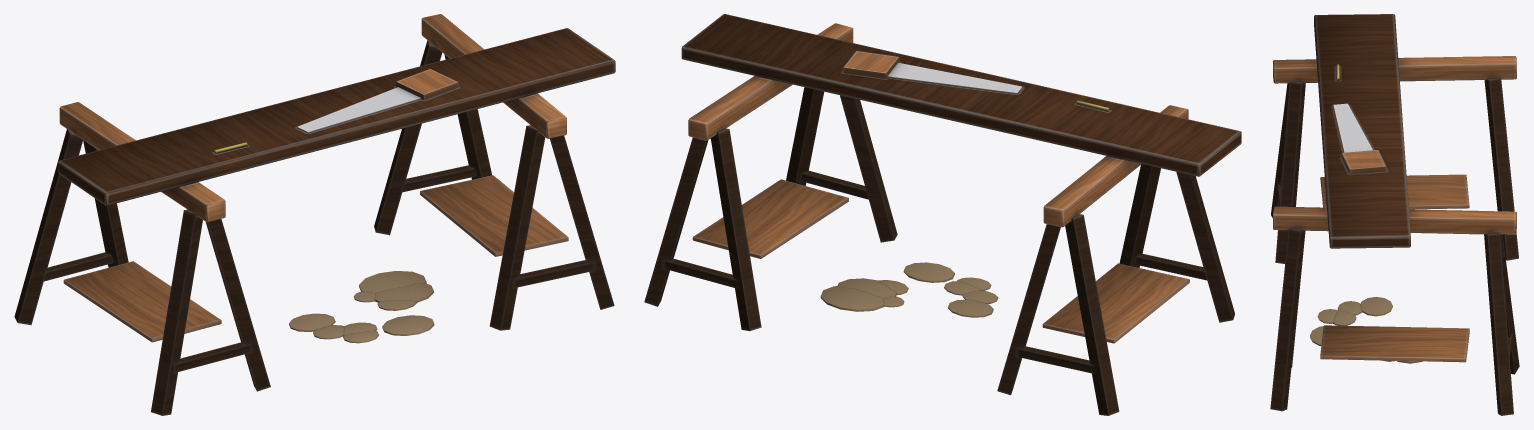
The model's file is Sawhorse.fbx.
3 renders of one model, left to right at view 1: azimuth 30°, elevation 25°; view 2: azimuth 150°, elevation 25°; view 3: azimuth 270°, elevation 25°, orthographic. The views are drawn at different scales.
Visible parts, largest first — view 1: Sawhorse; view 2: Sawhorse; view 3: Sawhorse.
Part boxes in pixels (<box>): Sawhorse: <box>14,14,615,415</box>; Sawhorse: <box>644,14,1241,415</box>; Sawhorse: <box>1270,14,1519,415</box>.
Size of the model in its own units: 653 by 266 by 307.
